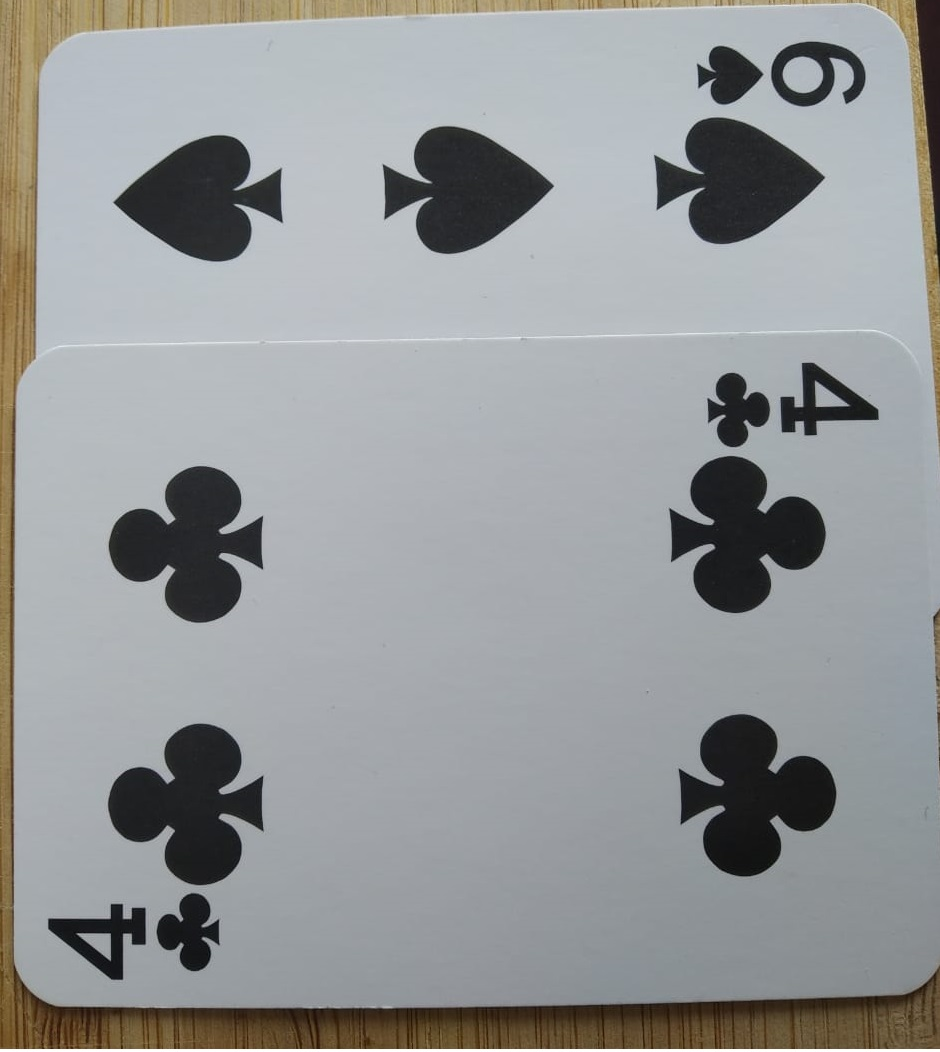four: (1, 308, 932, 1018)
nine: (27, 16, 940, 645)
